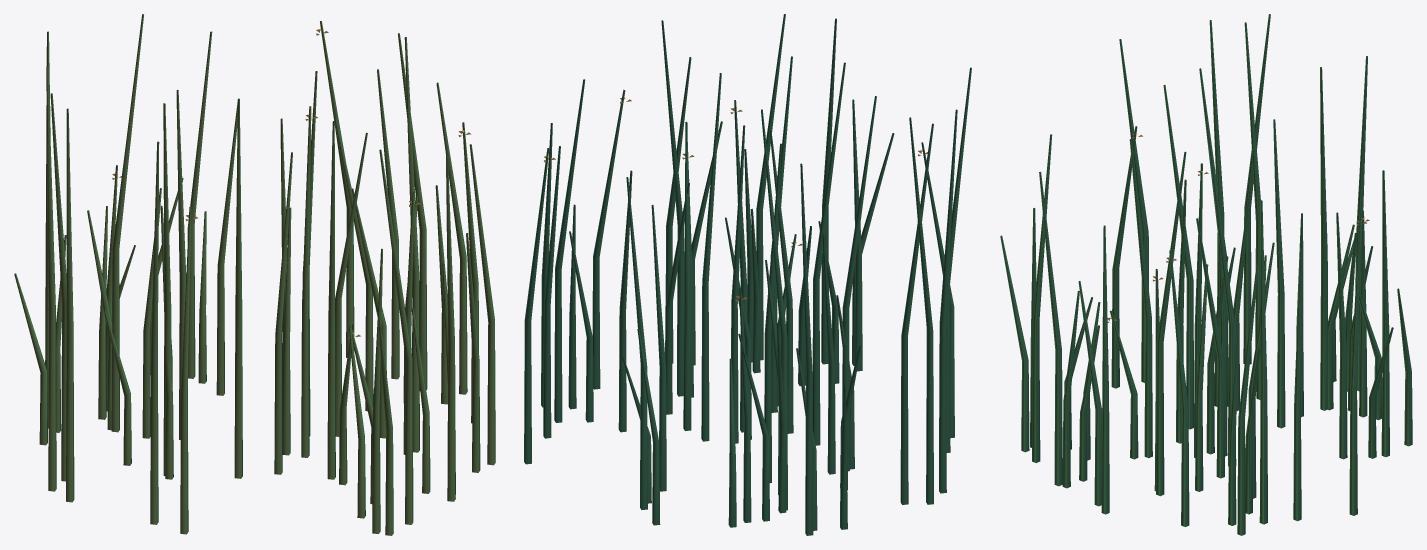
Rendered from Wetland_04_Juncos_Sparse.glb.
3 renders of one model, left to right at view 1: azimuth 30°, elevation 25°; view 2: azimuth 150°, elevation 25°; view 3: azimuth 270°, elevation 25°, orthographic. The views are drawn at different scales.
Parts seen in each view (by area): view 1: Wetland_04_Juncos_Sparse; view 2: Wetland_04_Juncos_Sparse; view 3: Wetland_04_Juncos_Sparse.
Boxes of the visible parts, box(x1,y1,x2,y2) form: Wetland_04_Juncos_Sparse: box(14, 14, 495, 535); Wetland_04_Juncos_Sparse: box(524, 14, 971, 535); Wetland_04_Juncos_Sparse: box(1000, 14, 1412, 535).
Bounding box in the file's own units: 1.6 × 1.5 × 1.59.
